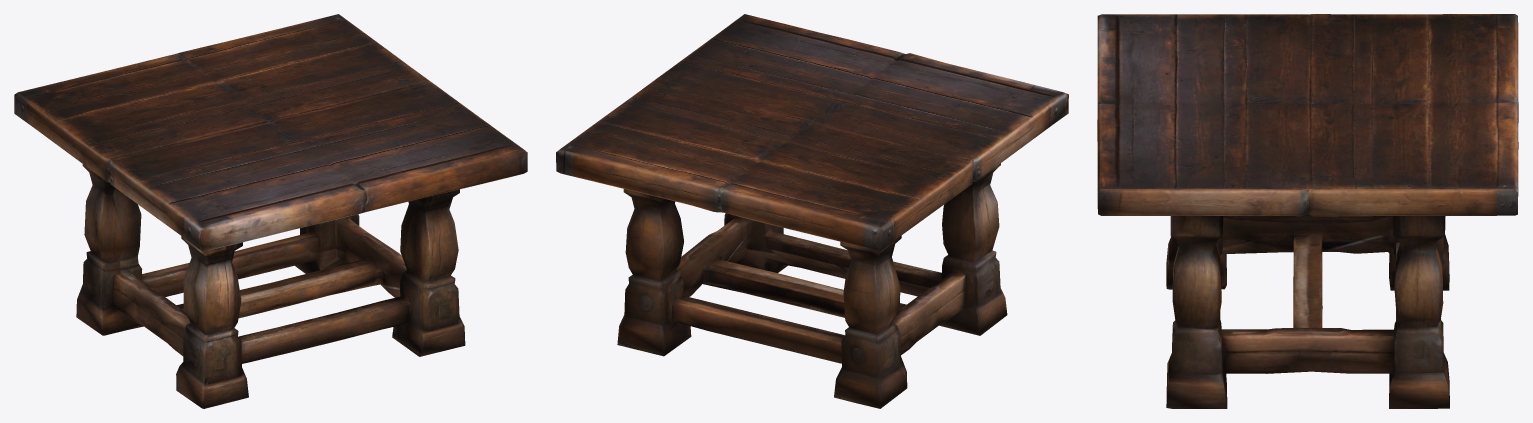
File: env_table.glb
3 renders of one model, left to right at view 1: azimuth 30°, elevation 25°; view 2: azimuth 150°, elevation 25°; view 3: azimuth 270°, elevation 25°, orthographic. The views are drawn at different scales.
Bounding box in the file's own units: 2 × 1.24 × 2.
1 material, 1 textured.
